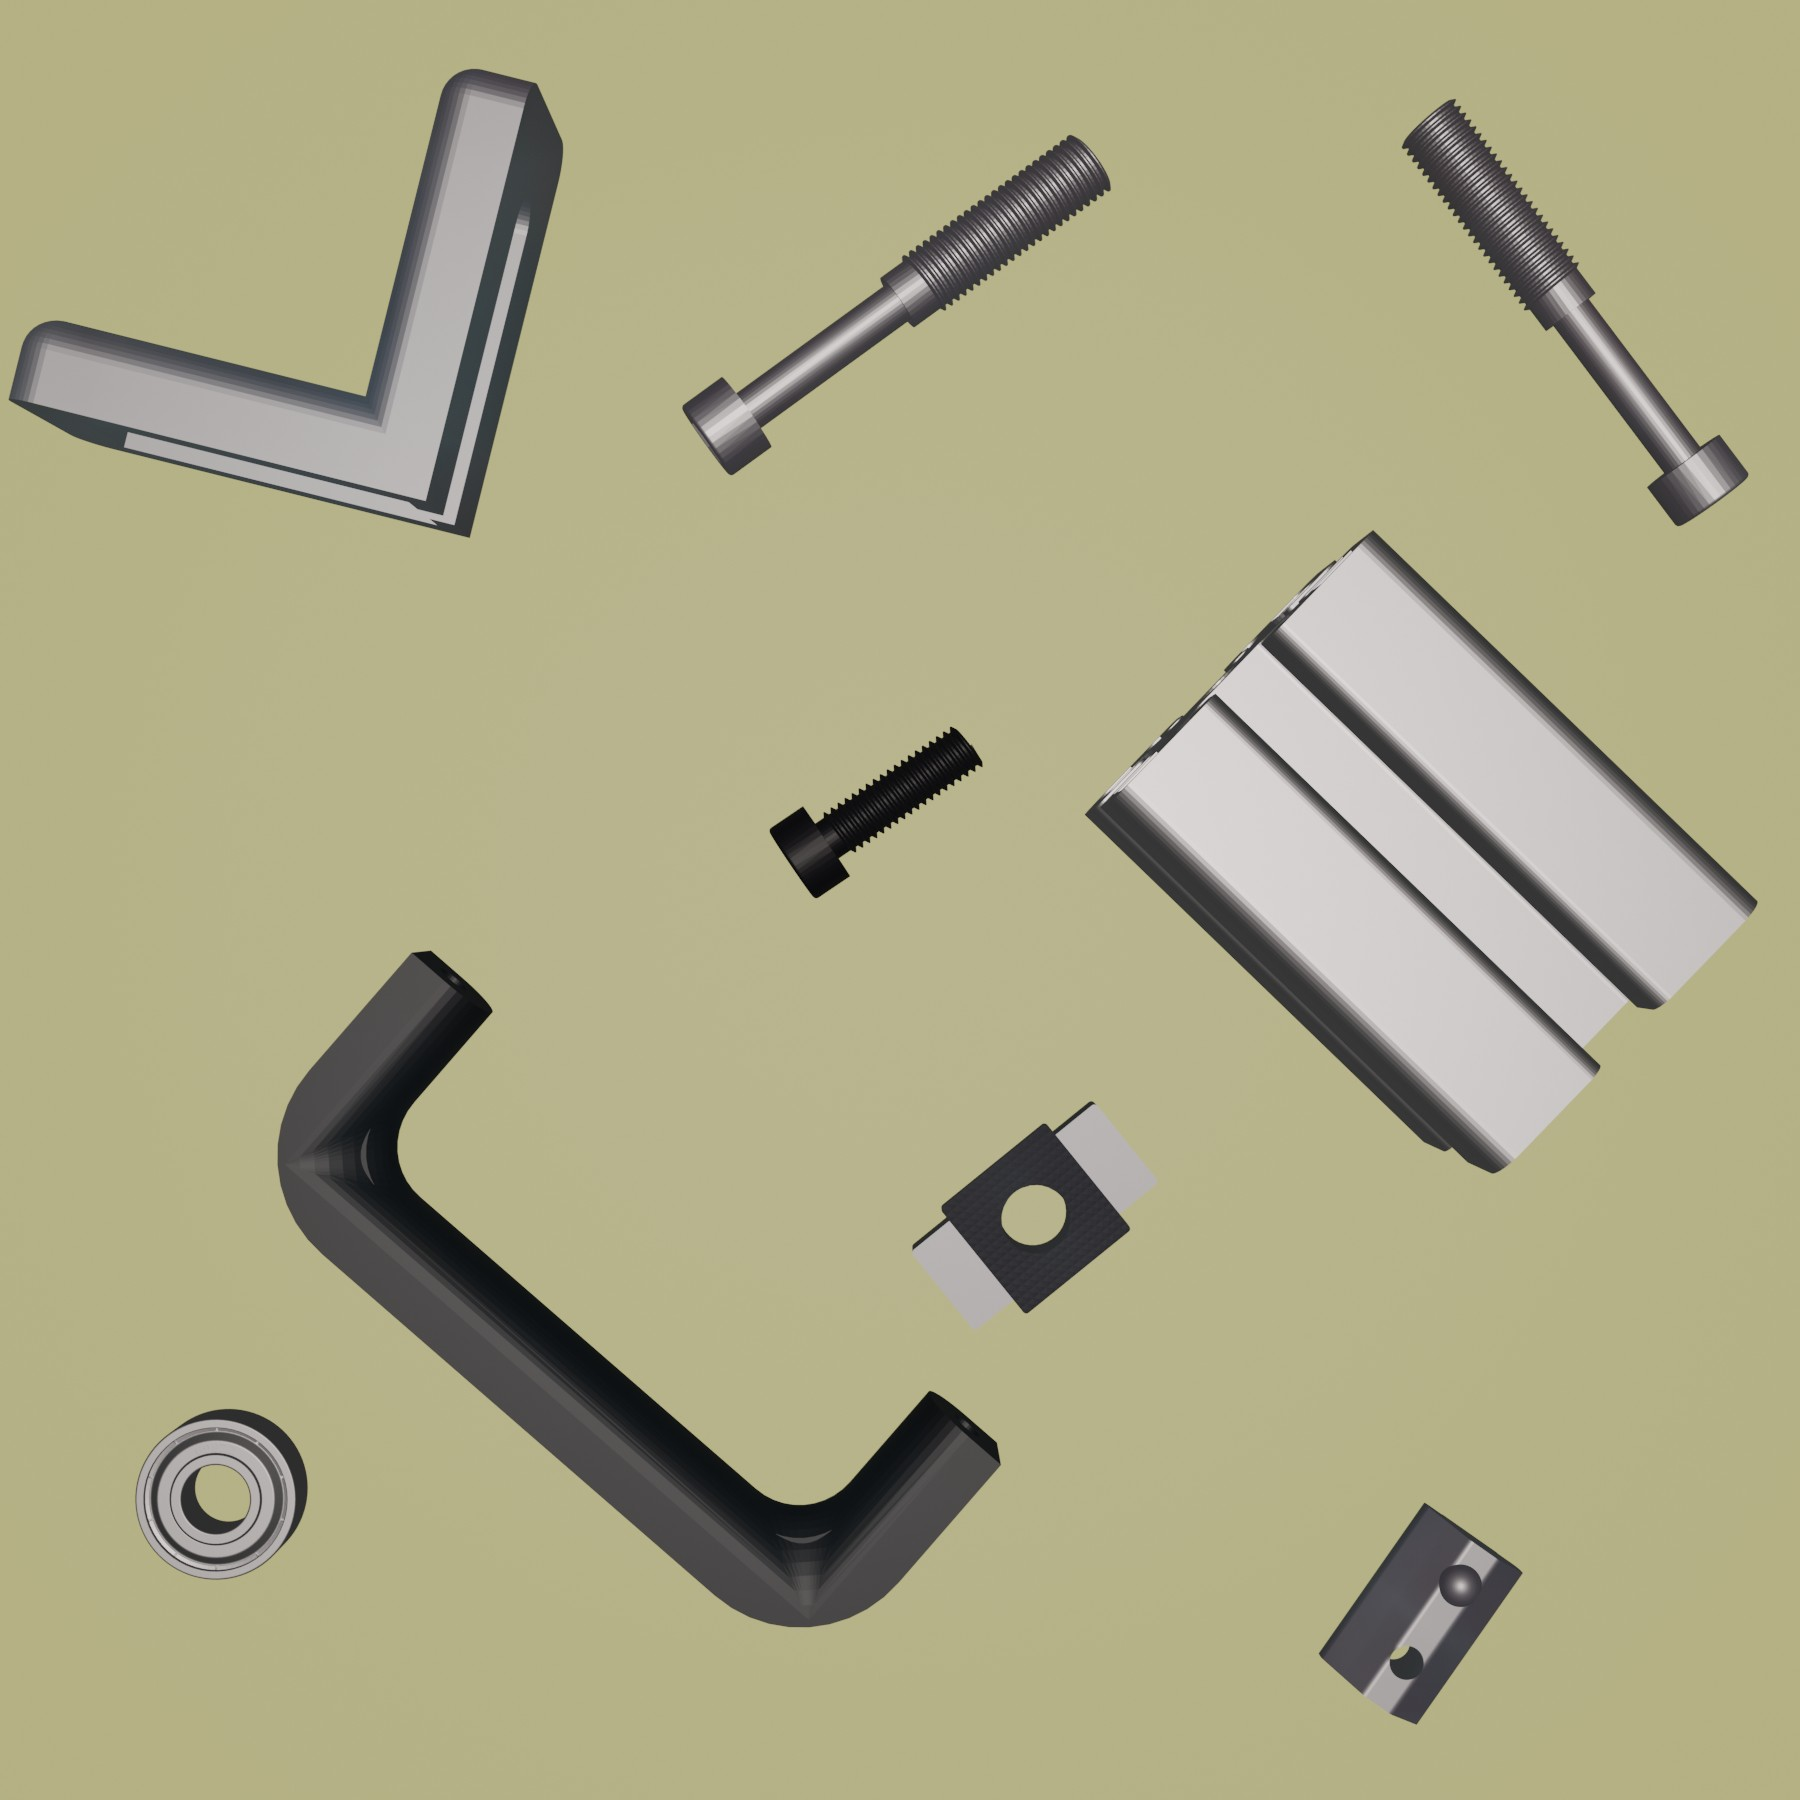Aluminium Extension: (1080, 531, 1759, 1175)
Ball Bearing: (130, 1404, 308, 1582)
Multiwinkel: (5, 64, 565, 542)
Pull Handle: (274, 949, 1001, 1630)
Shoulder Socket Head Cap Screw: (1398, 96, 1751, 531), (682, 130, 1114, 476)
Socket Head Cap Screw: (766, 724, 986, 903)
T Nut Square: (908, 1099, 1170, 1329)
T Spring Nut: (1319, 1502, 1526, 1727)
